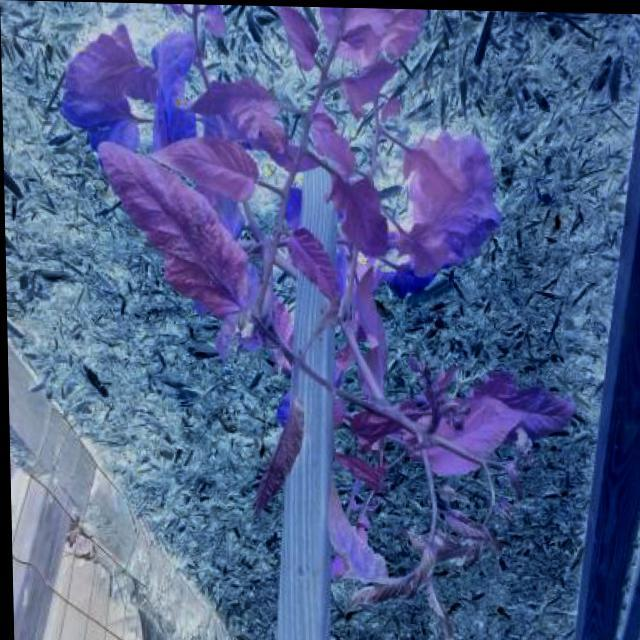Tomato bacterial spot leaf: (90, 143, 250, 320), (321, 158, 385, 274), (474, 369, 580, 439)
